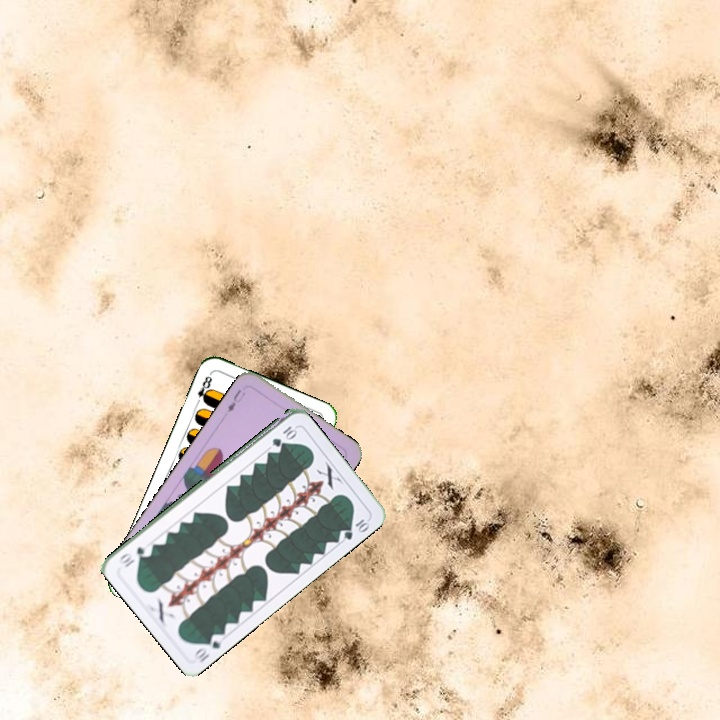E8: (192, 369, 215, 408)
EU: (223, 385, 248, 415)
G10: (191, 629, 227, 664), (268, 422, 298, 448)
